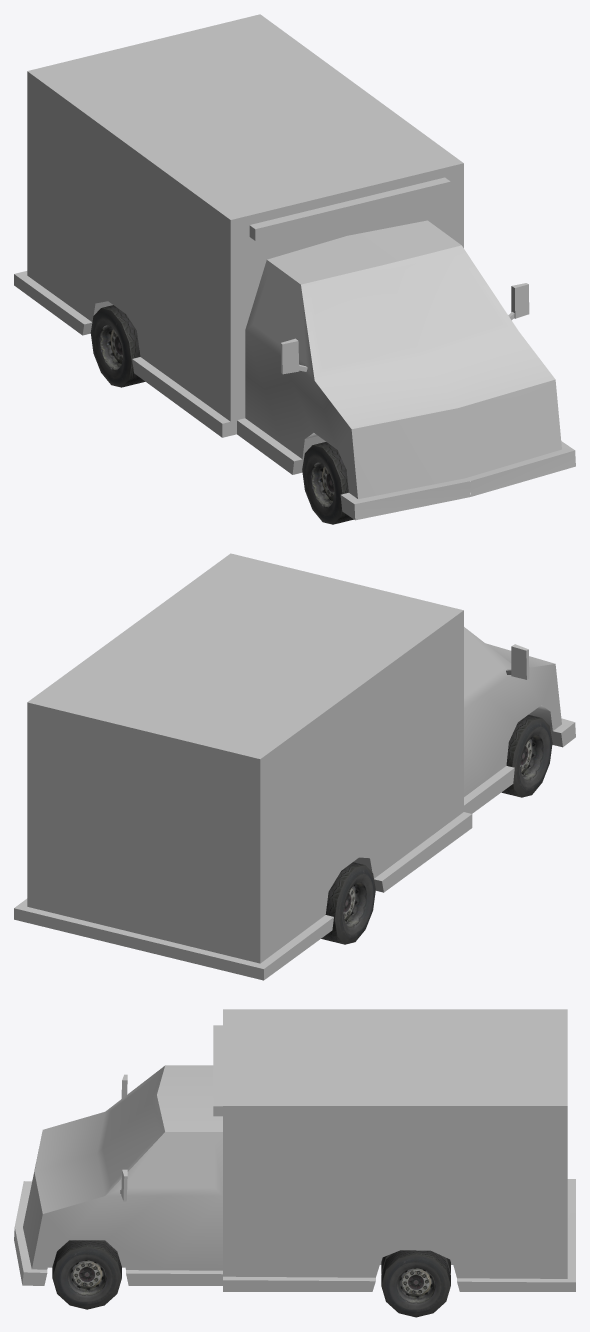
File: ambulance.fbx
The picture shows the model from 3 angles, top to bottom: view 1: azimuth 30°, elevation 25°; view 2: azimuth 150°, elevation 25°; view 3: azimuth 270°, elevation 25°; orthographic projection. The views are drawn at different scales.
Parts seen in each view (by area): view 1: body, rear_left, front_right; view 2: body, rear_left, front_right; view 3: body, front_left, rear_right.
Boxes of the visible parts, left/top/right/bottom form: body: left=14, top=14, right=575, bottom=520; rear_left: left=90, top=305, right=145, bottom=387; front_right: left=302, top=442, right=353, bottom=524; body: left=14, top=553, right=575, bottom=980; rear_left: left=321, top=862, right=375, bottom=944; front_right: left=501, top=714, right=552, bottom=797; body: left=14, top=1009, right=575, bottom=1291; front_left: left=52, top=1240, right=121, bottom=1309; rear_right: left=381, top=1250, right=450, bottom=1317.
Size of the model in its own units: 378 by 357 by 869.
